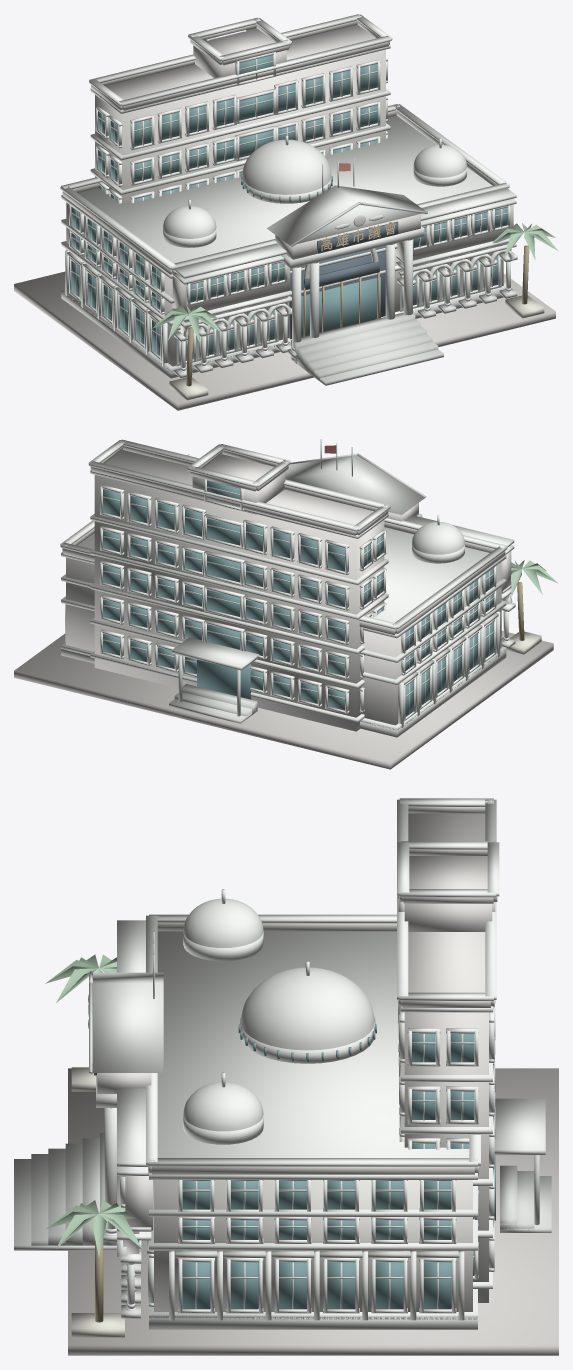
Rendered from dot-Q1.glb.
3 renders of one model, top to bottom at view 1: azimuth 30°, elevation 25°; view 2: azimuth 150°, elevation 25°; view 3: azimuth 270°, elevation 25°, orthographic. The views are drawn at different scales.
Visible parts, largest first — view 1: Q1_pave, sign_高 雄 市 議 會; view 2: Q1_pave; view 3: Q1_pave.
Part boxes in pixels (<box>): Q1_pave: <box>14,14,558,410</box>; sign_高 雄 市 議 會: <box>320,222,396,251</box>; Q1_pave: <box>14,439,558,769</box>; Q1_pave: <box>14,798,558,1355</box>.
Bounding box in the file's own units: 6.34 × 3.56 × 5.03.
3 materials, 3 textured.
